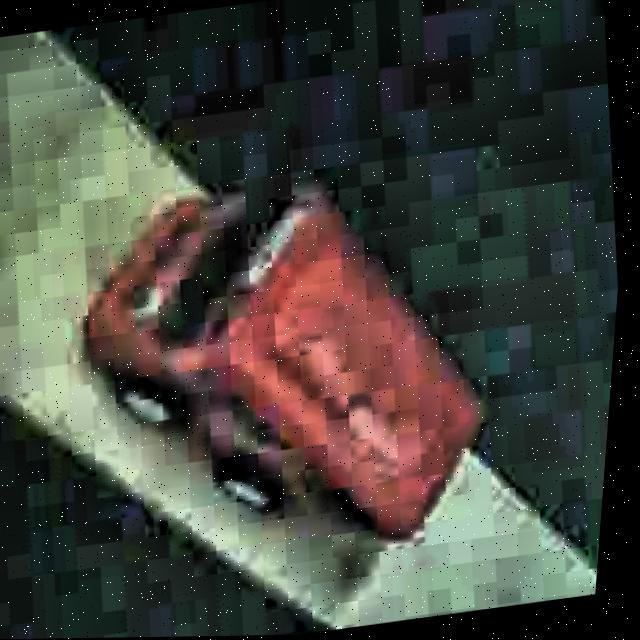bus: (41, 156, 518, 588)
